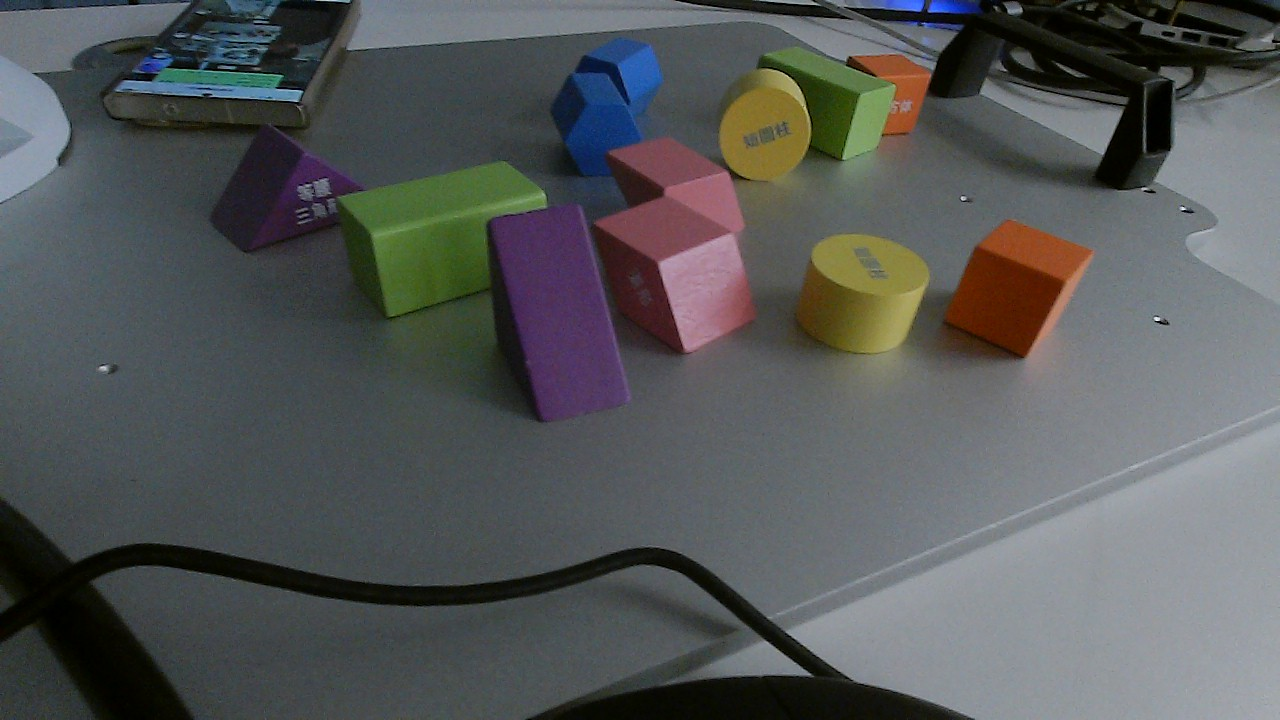circle: (796, 233, 924, 355), (716, 71, 803, 183)
diamond: (591, 198, 752, 356), (606, 137, 741, 241)
hexagon: (550, 73, 637, 173), (570, 41, 666, 115)
rectangle: (334, 162, 558, 316), (758, 43, 893, 158)
square: (945, 220, 1096, 361), (846, 54, 933, 131)
triangle: (487, 202, 630, 416), (206, 127, 372, 245)
